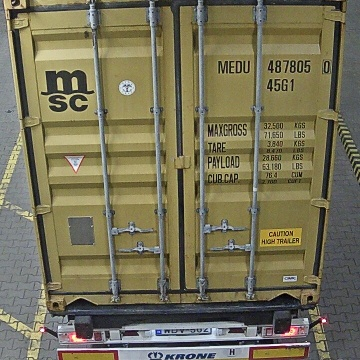serial_id: (218, 60, 330, 75)
